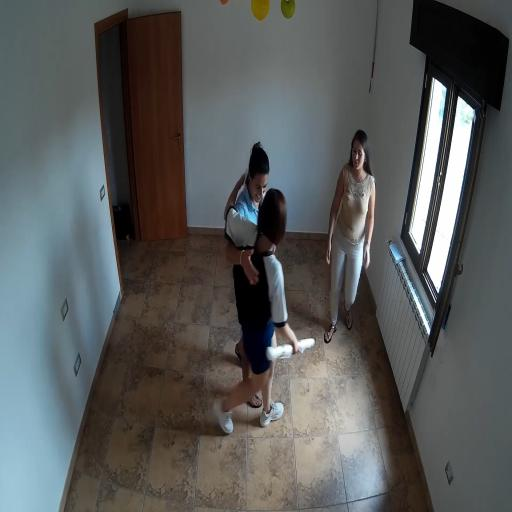nao-violencia: (208, 125, 320, 444)
